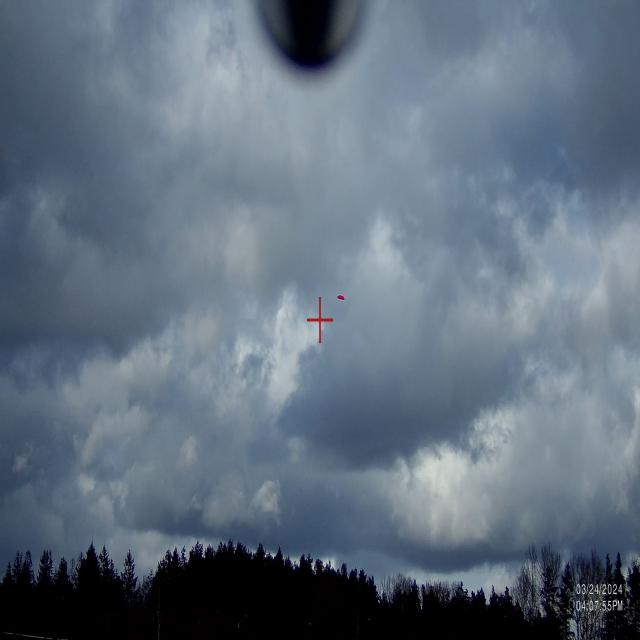entire: (331, 294, 349, 308)
